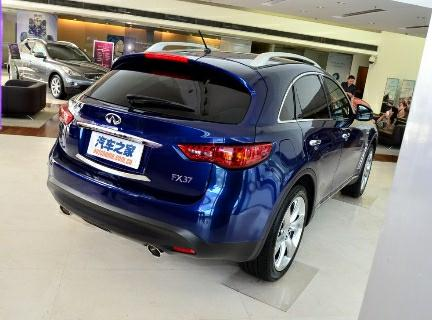car: (43, 27, 383, 287)
